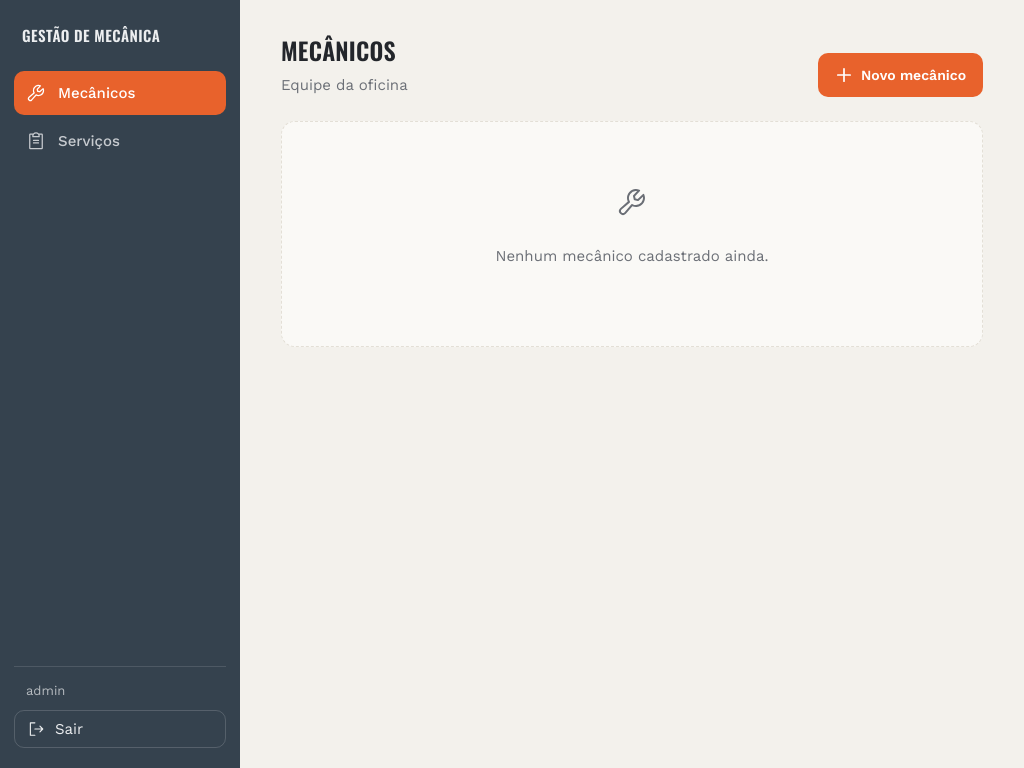
it: App (integração: roteamento + autenticação de ponta a ponta) › logout leva de volta para a tela de login
Expected: the heading "Mecânicos" is shown, [281,32,408,68]
Click the button "Sair" at (120,729), box [14,710,226,748]
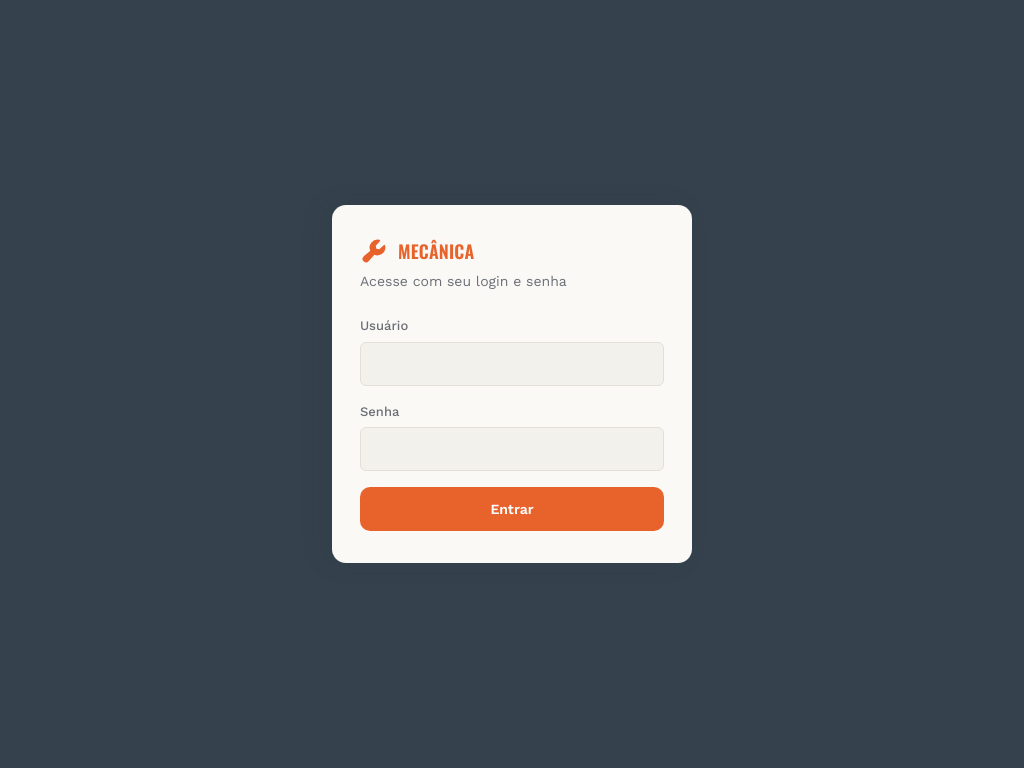
Expected: the button "Entrar" is shown, [360,487,664,531]
